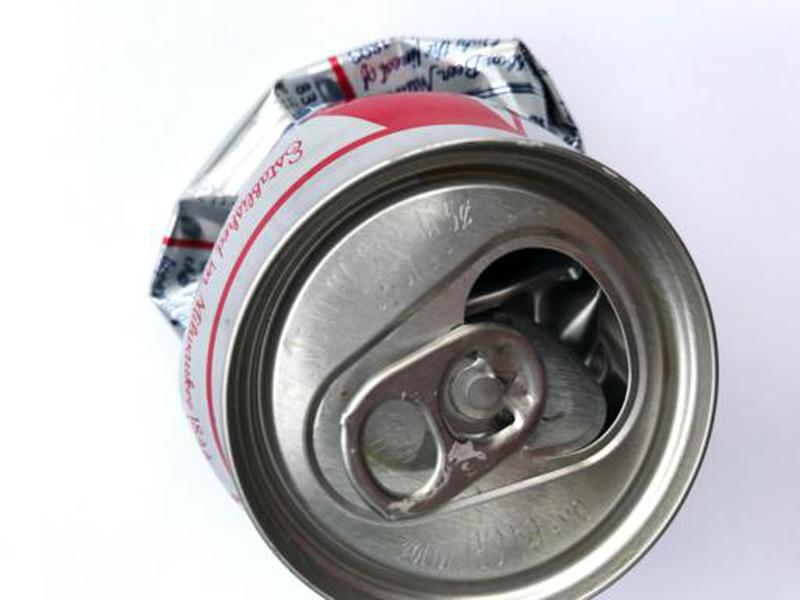can: (143, 30, 725, 600)
